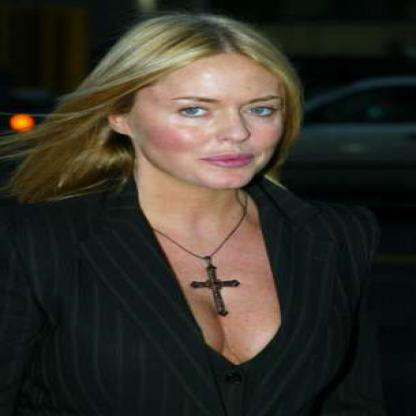face: (129, 25, 292, 193)
